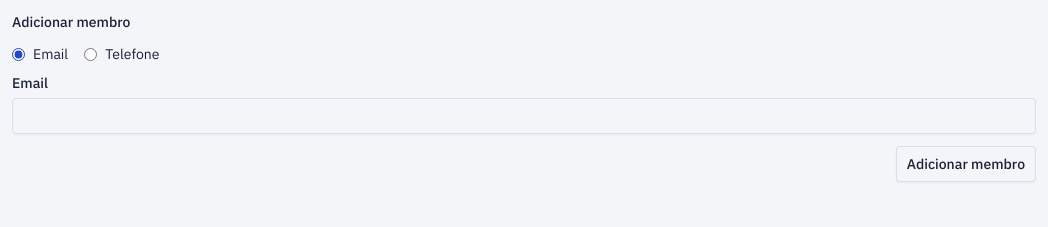
Test: AddMemberForm › revalida o contato ao trocar de Email para Telefone, sem deixar o erro de email embaixo do telefone
In the field labelled "Email": [524, 116] box [12, 98, 1036, 134], type "bruno"
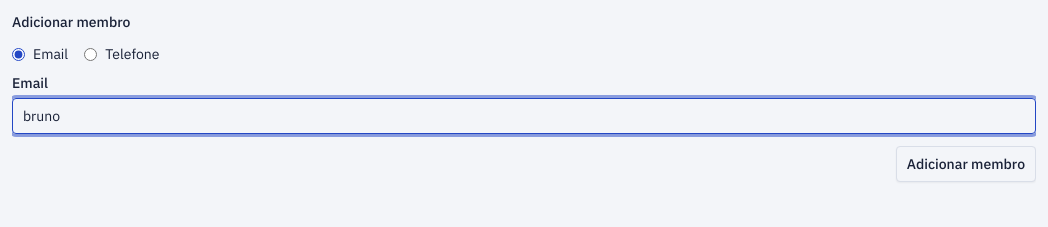
Click the button "Adicionar membro": [966, 164] box [896, 146, 1036, 182]
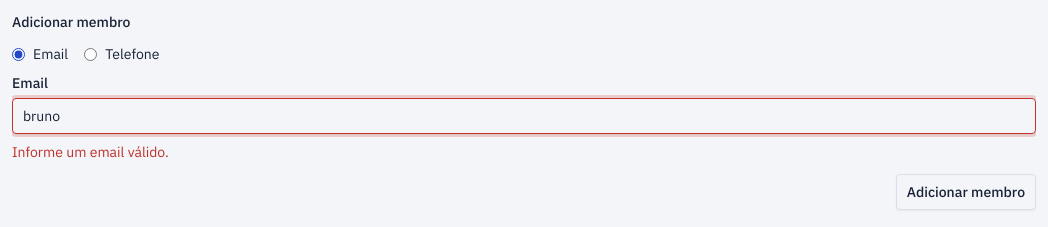
Expected: the text "Informe um email válido." is shown, [12, 143, 169, 161]
Click the radio button labelled "Telefone": [91, 54] box [84, 48, 97, 60]
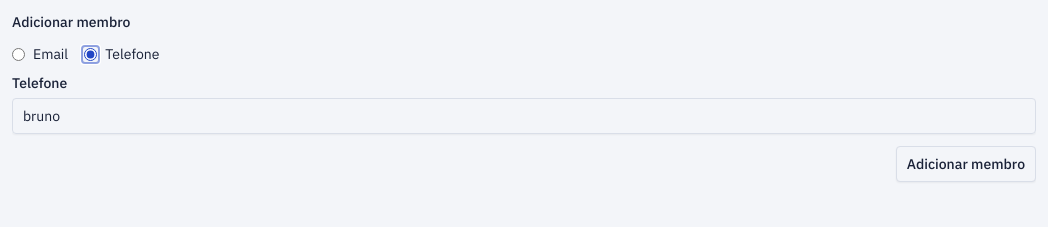
Expected: the text "Informe um email válido." is gone
